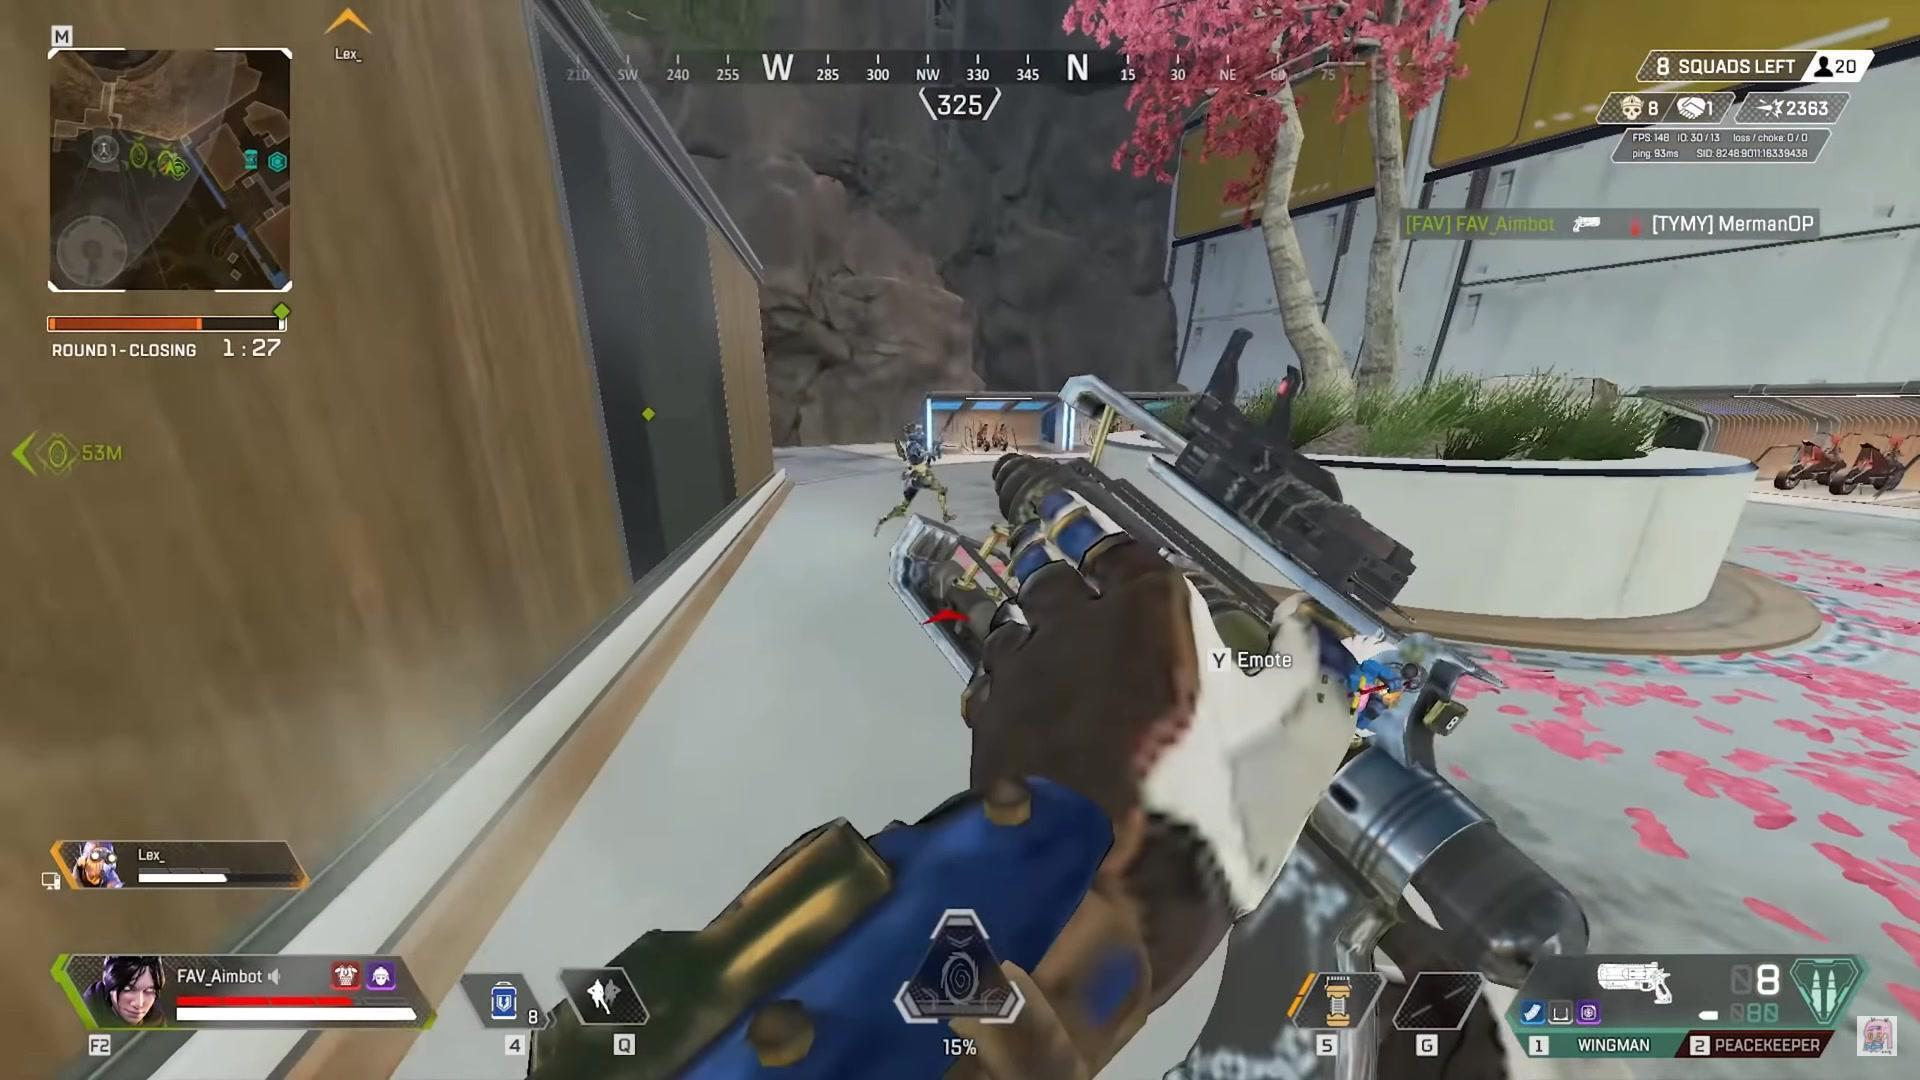avatar: (887, 418, 953, 526)
